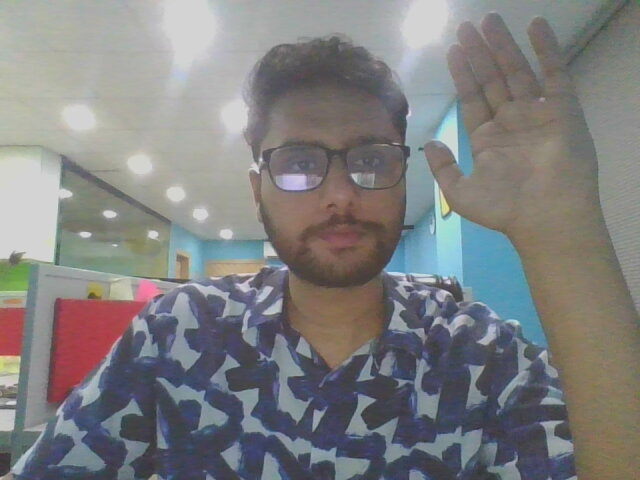hello: (412, 3, 618, 284)
